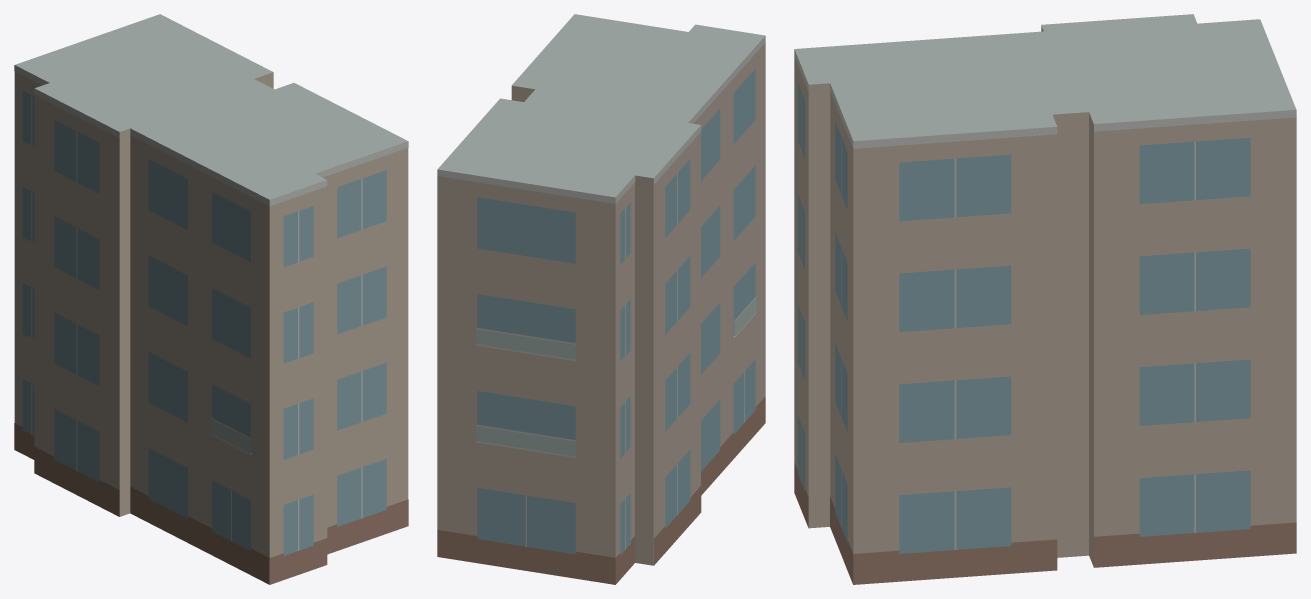
Rendered from survey-upis-32962632.glb.
3 views of the same model, side by side, from view 1: azimuth 30°, elevation 25°; view 2: azimuth 150°, elevation 25°; view 3: azimuth 270°, elevation 25° (orthographic). The views are drawn at different scales.
Visible parts, largest first — view 1: survey-upis-32962632.tmp; view 2: survey-upis-32962632.tmp; view 3: survey-upis-32962632.tmp.
Boxes of the visible parts, <box> form: survey-upis-32962632.tmp: <box>14,14,408,584</box>; survey-upis-32962632.tmp: <box>437,14,765,584</box>; survey-upis-32962632.tmp: <box>794,14,1296,584</box>.
Size of the model in its own units: 8.85 by 14.37 by 14.75.
